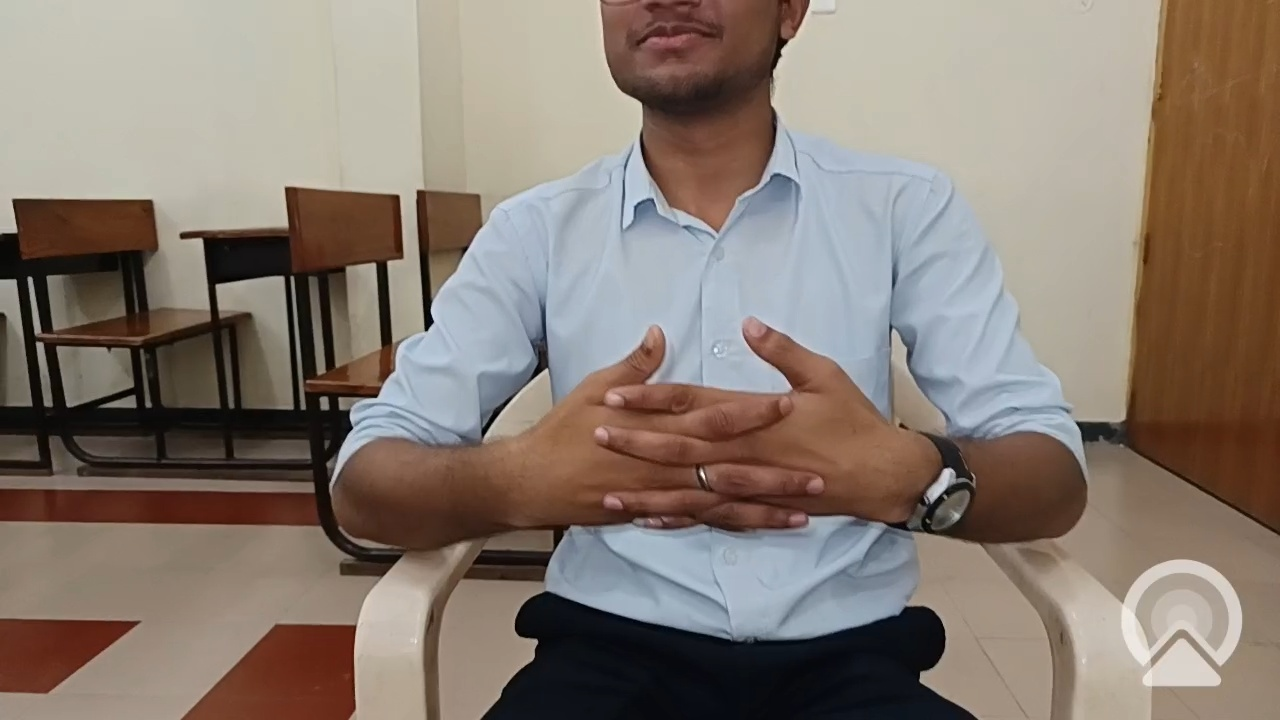W: (485, 297, 929, 584)
